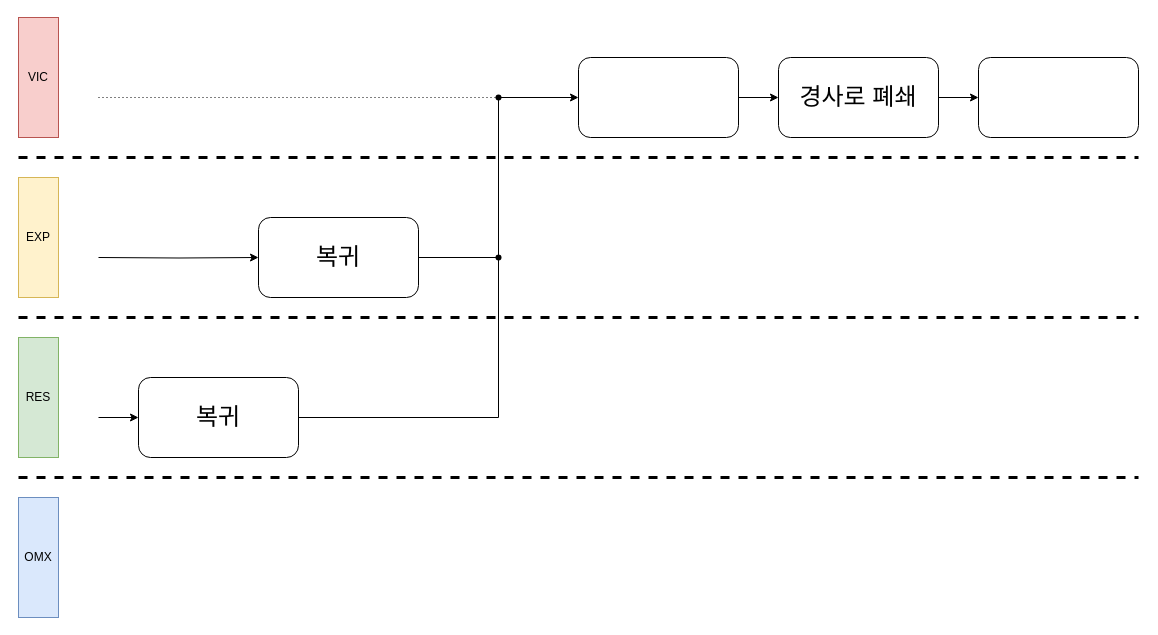
The diagram is 1158 pixels wide and 635 high, and some of its shapes have lost their labels. Each missing label, with the centre of its shape:
"주차 관제" belongs at (x=658, y=97).
"철수" belongs at (x=1058, y=97).
